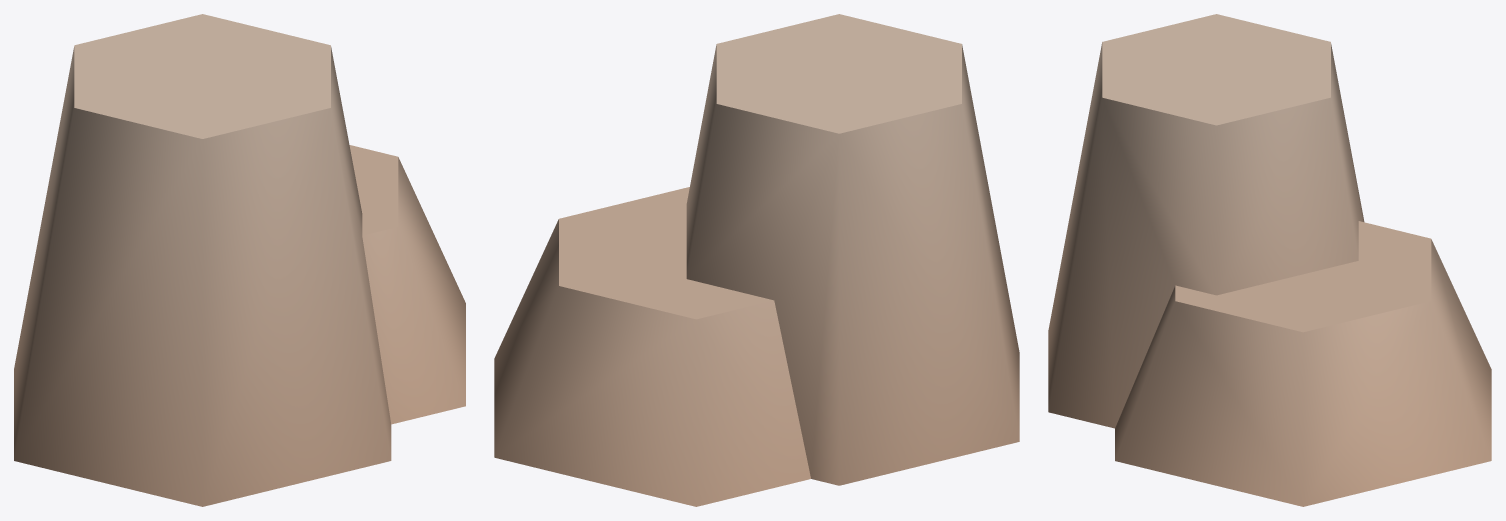
File: resource-stone.glb
3 renders of one model, left to right at view 1: azimuth 30°, elevation 25°; view 2: azimuth 150°, elevation 25°; view 3: azimuth 270°, elevation 25°, orthographic. The views are drawn at different scales.
Parts seen in each view (by area): view 1: resource-stone; view 2: resource-stone; view 3: resource-stone.
Part boxes in pixels (x1,y1,x2,y2): resource-stone: (14,14,465,506); resource-stone: (494,14,1019,506); resource-stone: (1048,14,1491,506).
Size of the model in its own units: 0.1653 by 0.1068 by 0.1422.
